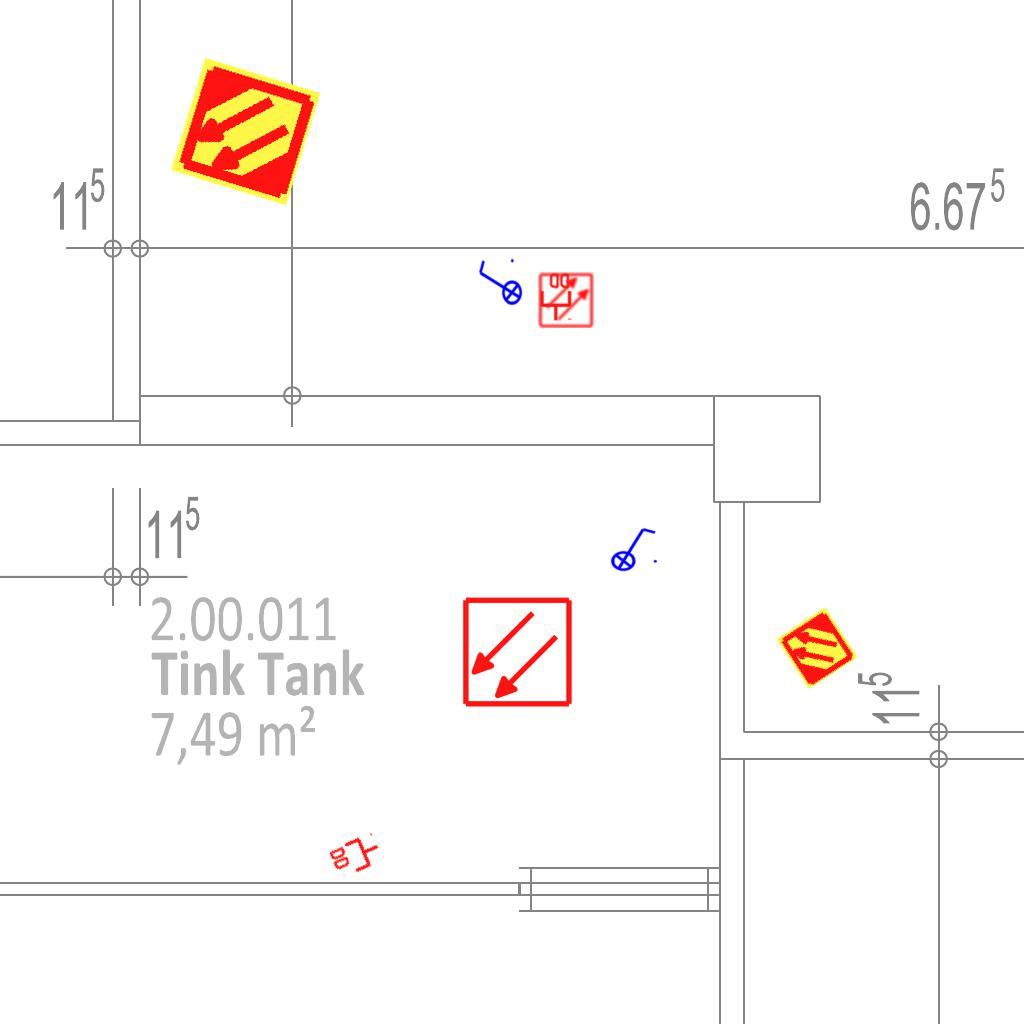ASR_Ansaugrauchmelder: (167, 53, 324, 210), (774, 605, 860, 691)
Ausschalter_beleuchtet: (475, 256, 523, 312), (604, 524, 660, 572)
Datenanschluss_zweifach: (325, 830, 387, 883), (538, 271, 572, 322)
RMO_Rauchmelder_optischer: (461, 596, 574, 709), (538, 272, 594, 328)
